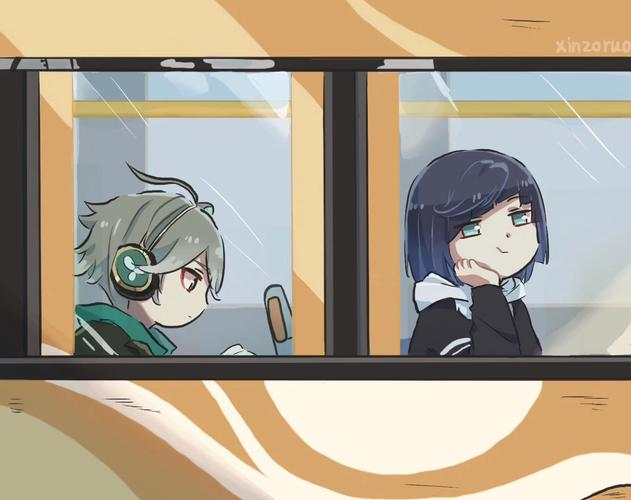夜兰: (400, 149, 560, 368)
